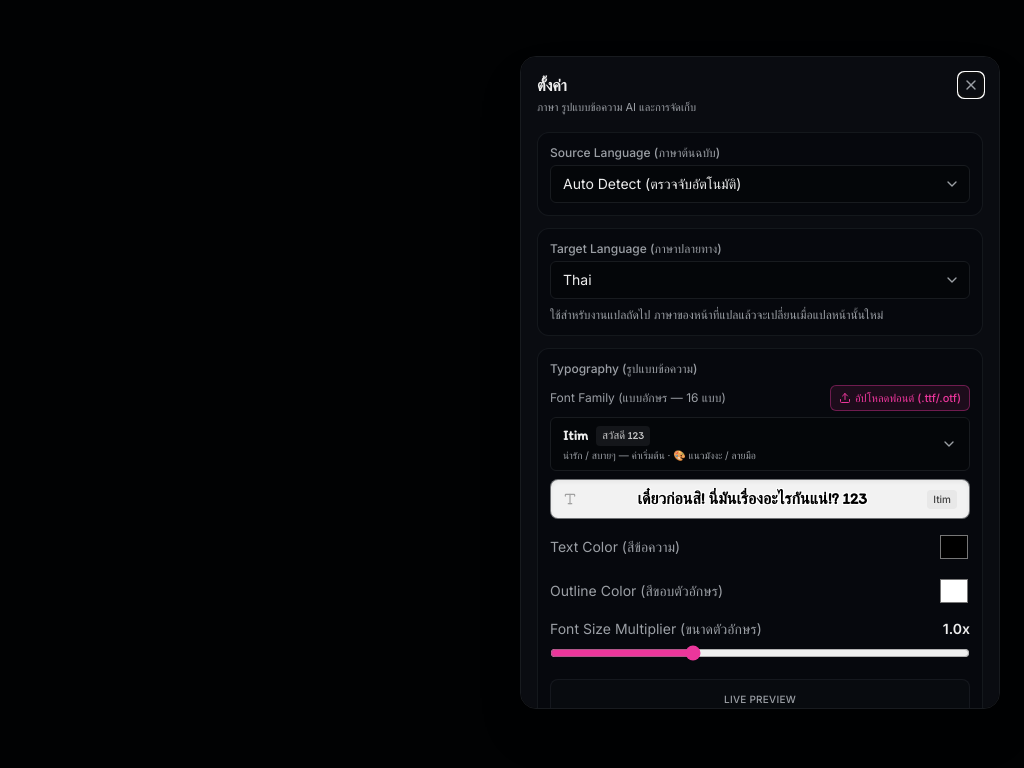
Test: Thai Manga Font Pack & Custom Font Upload › renders a Model-Picker-style Font Picker button, opens the searchable categorized listbox with live font previews, and selects a font
Expected: the element with test id "font-preview-box" is shown, [550,479,970,519]
// Clicking trigger button opens the custom Font Picker listbox + search box
Click the button with aria-label "Font Family (แบบอักษร)" at (623, 436), box [550,417,970,471]
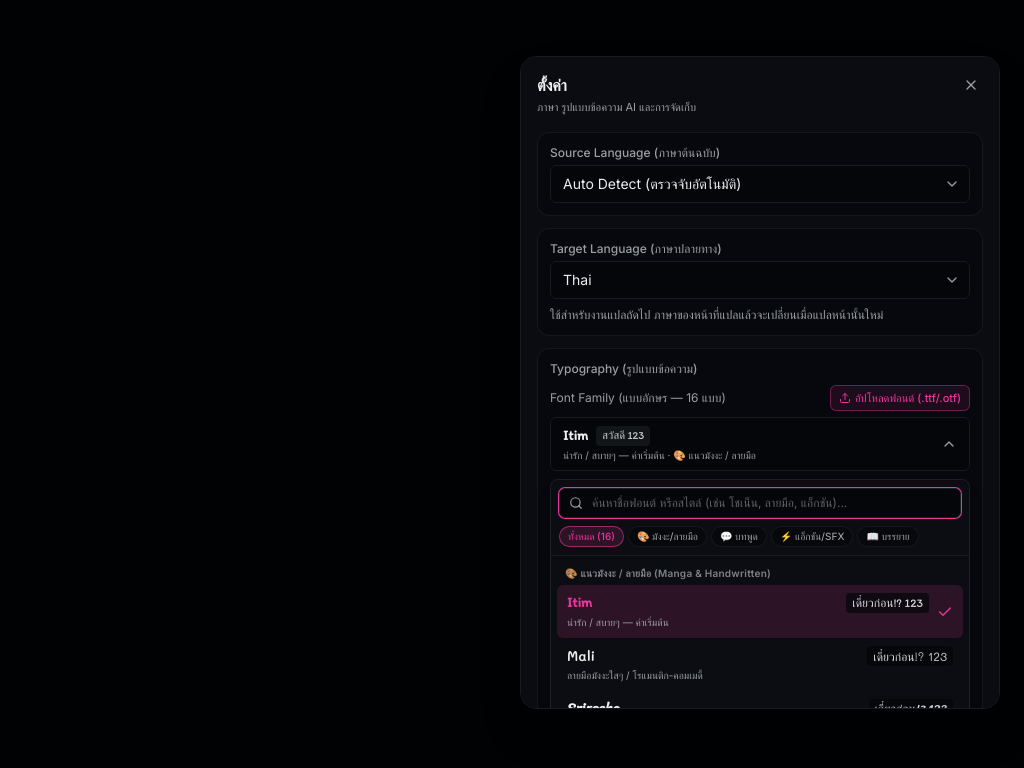
Result: the button with aria-label "Font Family (แบบอักษร)" is expanded at [550,417,970,471]
Result: the search field named "ค้นหาฟอนต์" is shown at [559,488,961,518]
// Category filter pills filter the listbox
Click the button "⚡ แอ็กชัน/SFX" at (812, 537), box [771,526,853,547]
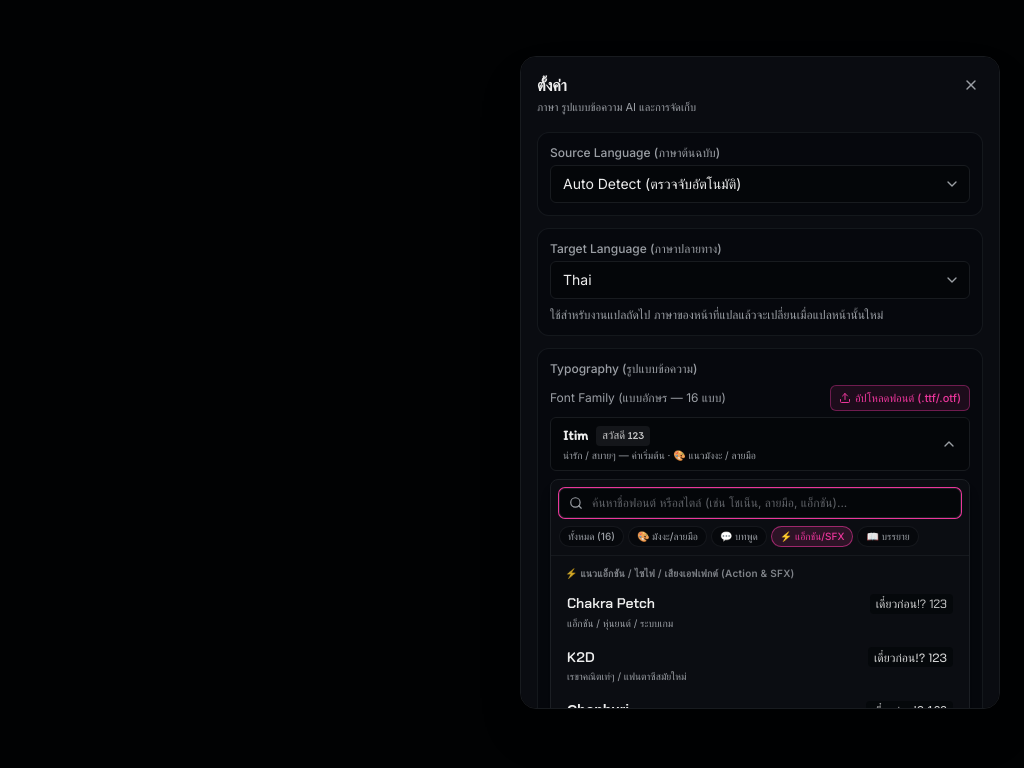
Result: the number of options is 3
// Reset filter back to All
Click the button "ทั้งหมด (16)" at (592, 537), box [559,526,624,547]
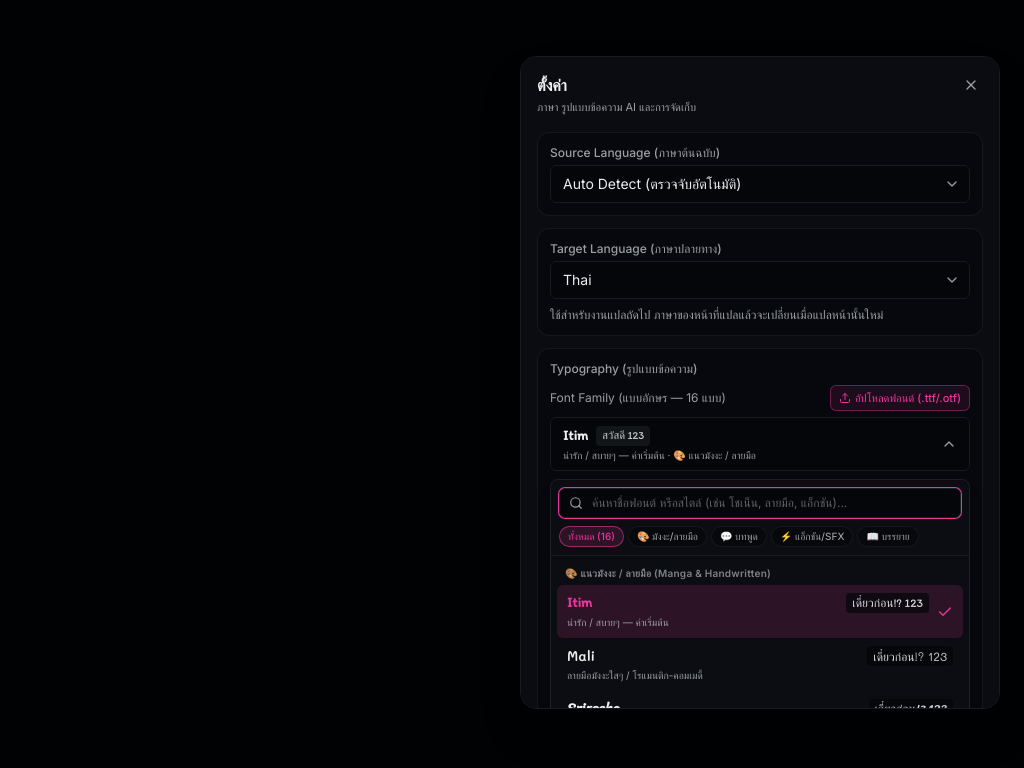
// Search box filters by Thai style description or font name
Type "โชเน็น" into the search field named "ค้นหาฟอนต์" at (760, 503), box [559,488,961,518]
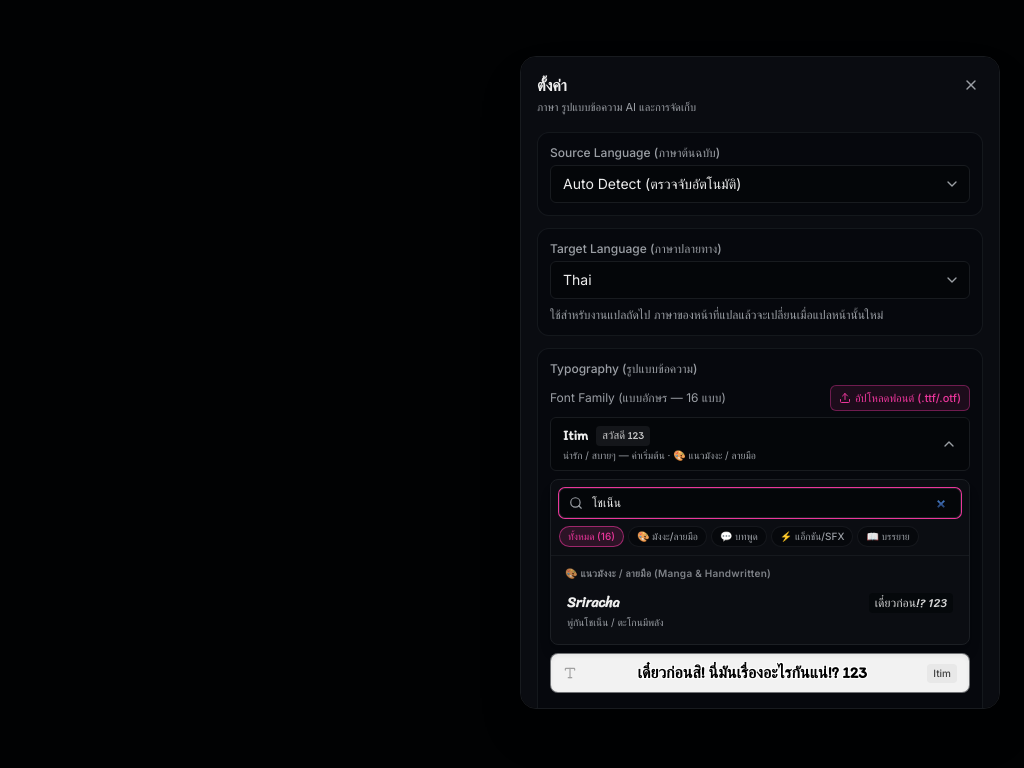
Result: the option shows "Sriracha"
Result: the number of options is 1
// Clicking an option updates fontFamily and closes the listbox
Click the option "Sriracha เดี๋ยวก่อน!? 123 พู่กันโชเน็น / ตะโกนมีพลัง" at (593, 603), box [557,585,963,638]
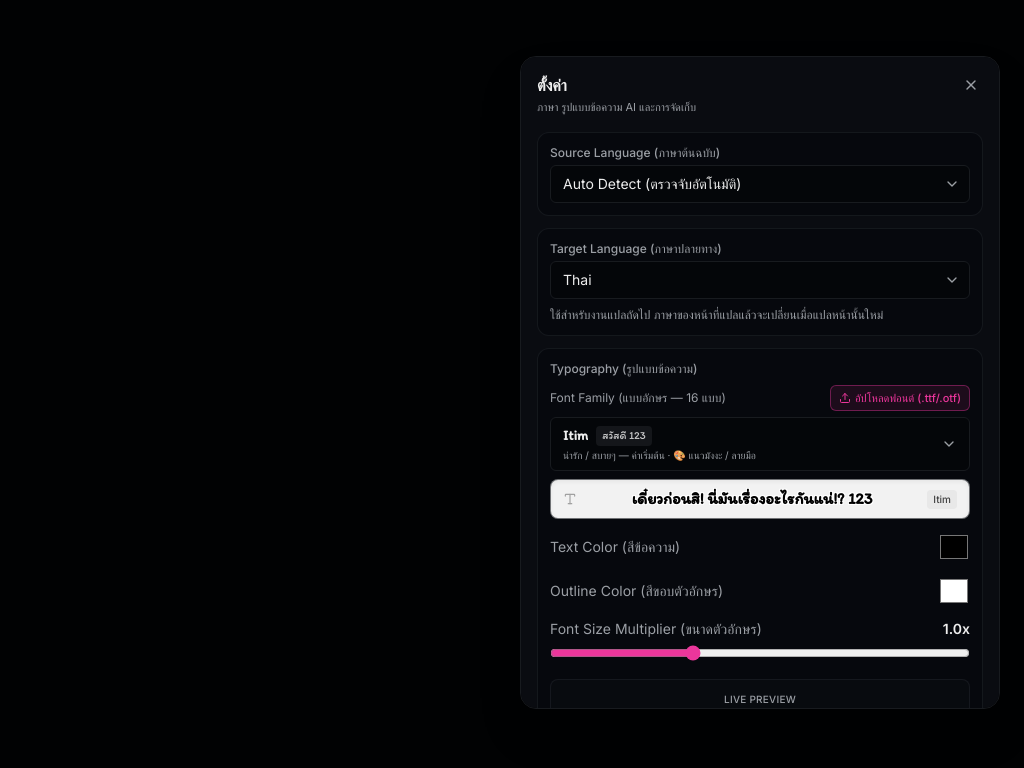
Result: the button with aria-label "Font Family (แบบอักษร)" is collapsed at [550,417,970,471]
